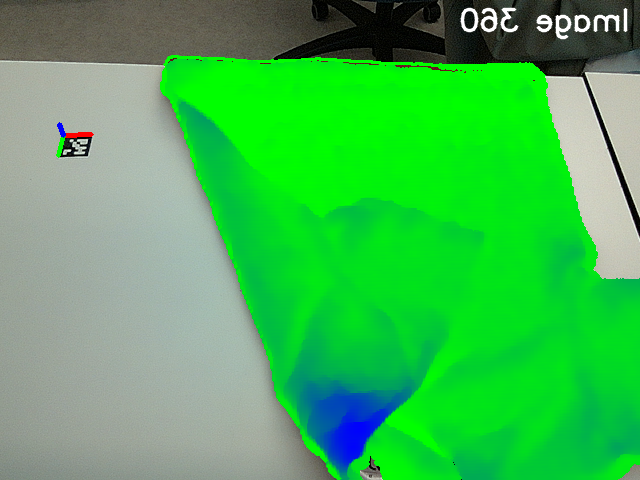V: (451, 212, 498, 261)
